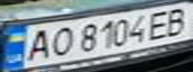0: (112, 16, 133, 47)
1: (97, 17, 118, 50)
4: (127, 11, 151, 44)
8: (75, 20, 100, 53)
A: (18, 27, 54, 62)
B: (160, 4, 193, 37)
E: (145, 8, 175, 41)
O: (45, 24, 75, 58)
